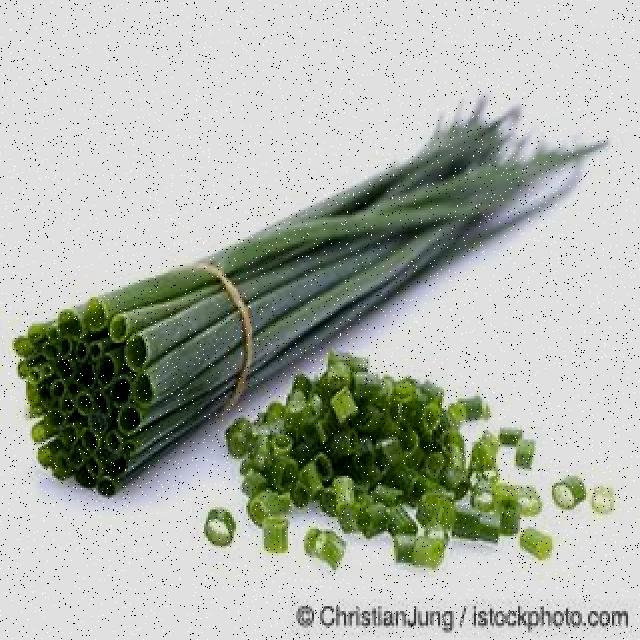Onion Leaves: (48, 111, 640, 308), (249, 385, 561, 589)
